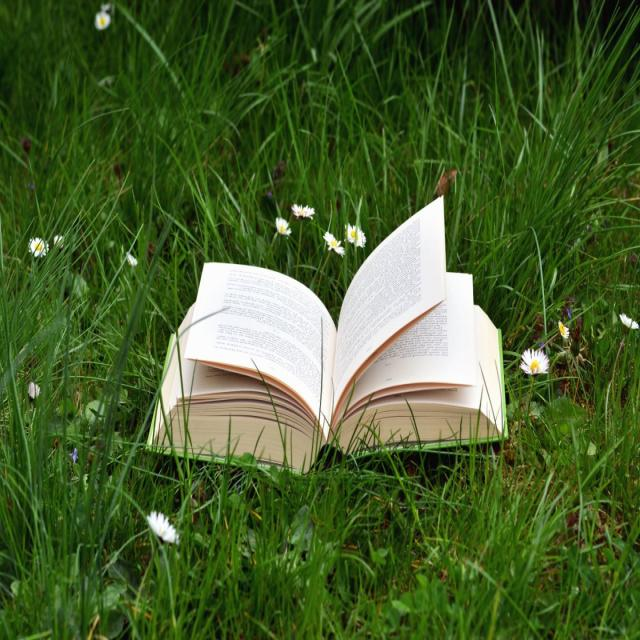book: (144, 178, 519, 502)
